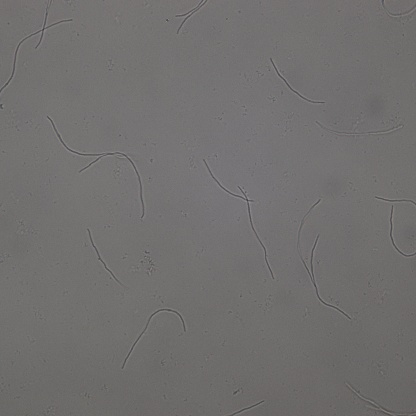Sensitive: (46, 115, 145, 217), (1, 1, 75, 95), (296, 198, 350, 320), (122, 307, 187, 367), (239, 186, 274, 279), (203, 158, 254, 208), (271, 59, 325, 106), (346, 381, 416, 415), (87, 228, 125, 287), (315, 119, 403, 139), (388, 203, 416, 263), (175, 1, 208, 36), (375, 192, 416, 206)
